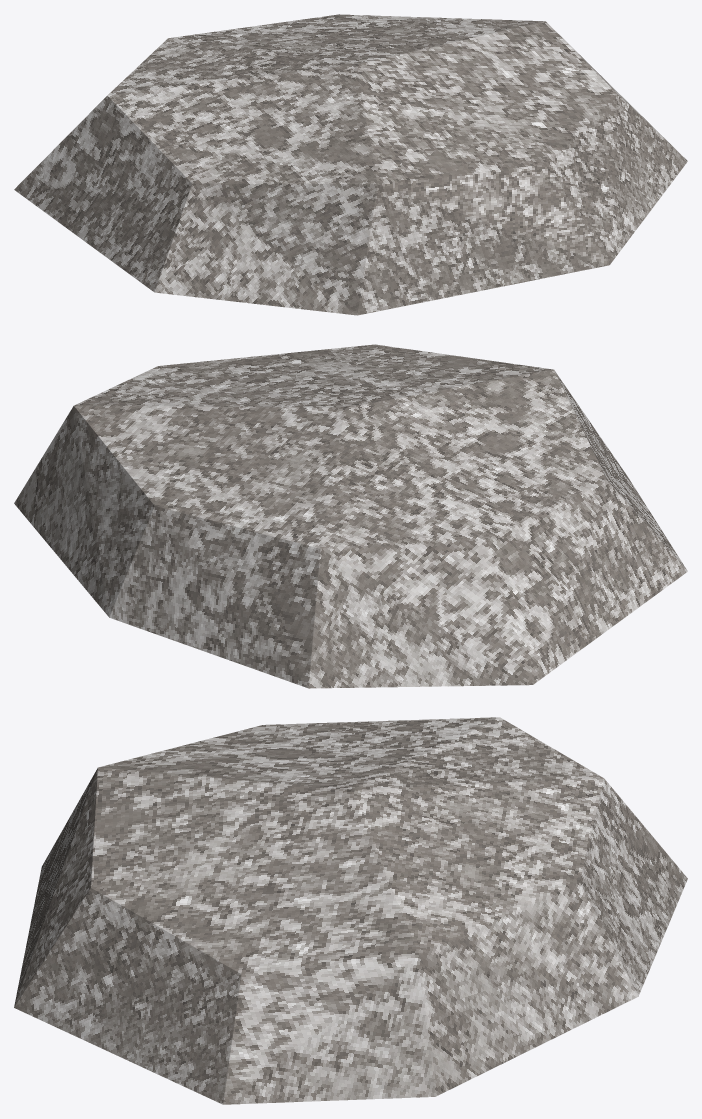
The model's file is garden_rock_1.glb.
3 views of the same model, one above another, from view 1: azimuth 30°, elevation 25°; view 2: azimuth 150°, elevation 25°; view 3: azimuth 270°, elevation 25° (orthographic). The views are drawn at different scales.
Visible parts, largest first — view 1: garden_rock_1; view 2: garden_rock_1; view 3: garden_rock_1.
Part boxes in pixels (bbox=[...]): garden_rock_1: bbox=[14, 14, 687, 315]; garden_rock_1: bbox=[14, 344, 687, 688]; garden_rock_1: bbox=[14, 717, 687, 1104].
Size of the model in its own units: 1.3 by 0.2926 by 1.18.
1 material, 1 textured.
